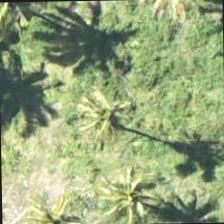Kelapa_Sawit: (60, 79, 152, 171), (84, 148, 176, 223), (81, 155, 173, 223), (9, 176, 101, 223)
